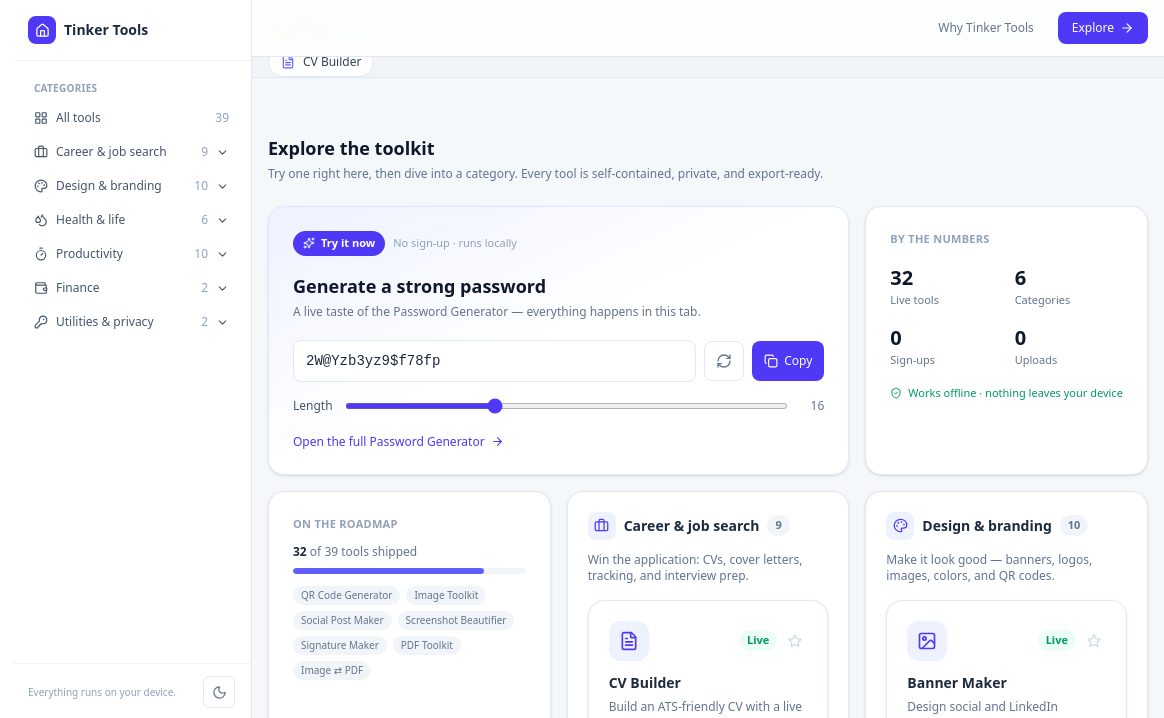
Test: HomePage › renders the bento tiles with a working demo
(page scrolled)
expect the text "Try it now" is shown: met, box [293, 231, 385, 256]
expect the text "By the numbers" is shown: met, box [890, 231, 990, 246]
Click the button "Copy" at (788, 360), box [752, 340, 824, 380]
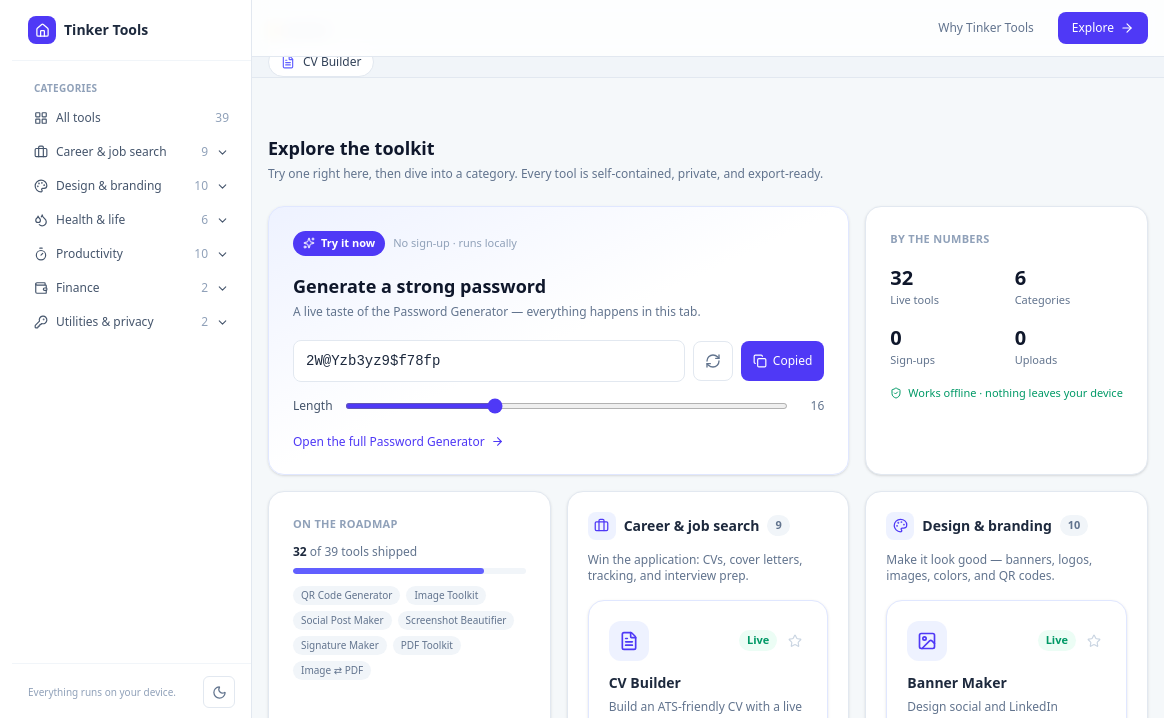
expect the button "Copied" is shown: met, box [741, 340, 824, 380]
